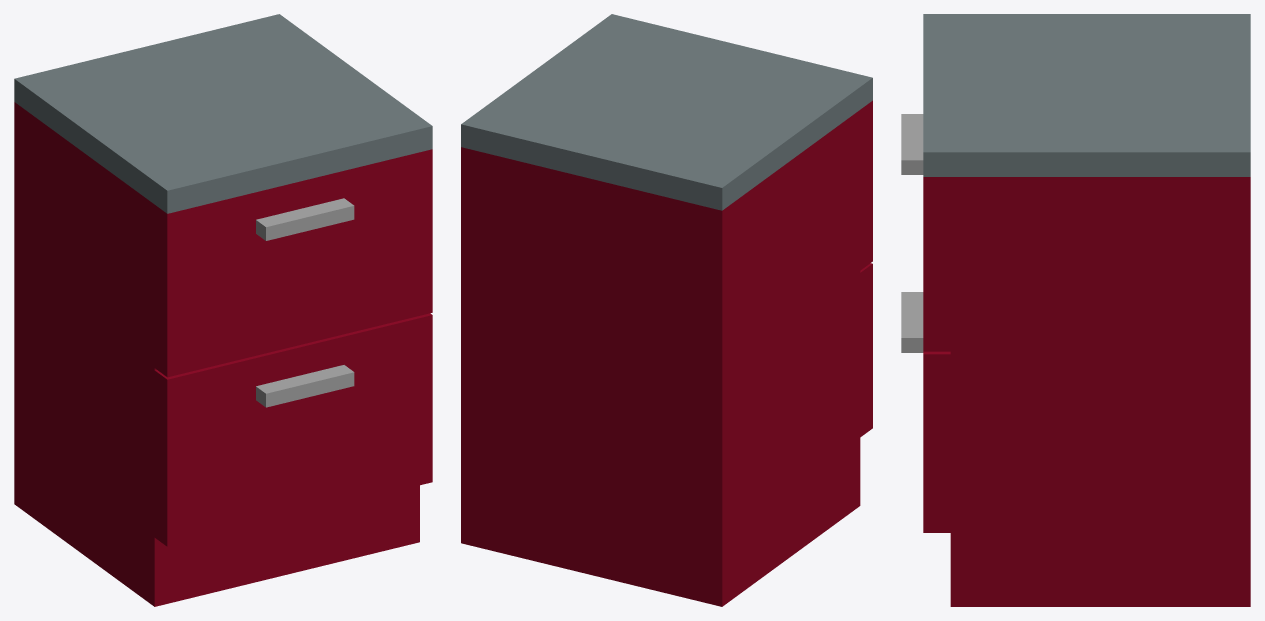
Rendered from Cabinet_1.fbx.
The picture shows the model from 3 angles, left to right: view 1: azimuth 30°, elevation 25°; view 2: azimuth 150°, elevation 25°; view 3: azimuth 270°, elevation 25°; orthographic projection. The views are drawn at different scales.
Visible parts, largest first — view 1: cabinet-kitchen; view 2: cabinet-kitchen; view 3: cabinet-kitchen.
Boxes of the visible parts, x1=… form: cabinet-kitchen: x1=14, y1=14, x2=432, y2=606; cabinet-kitchen: x1=461, y1=14, x2=872, y2=606; cabinet-kitchen: x1=901, y1=14, x2=1250, y2=606.
Bounding box in the file's own units: 60 × 92 × 64.
